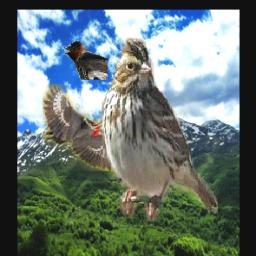Sparrow: (98, 37, 219, 221)
Swallow: (62, 41, 108, 81)
Woodpecker: (43, 85, 133, 172)
